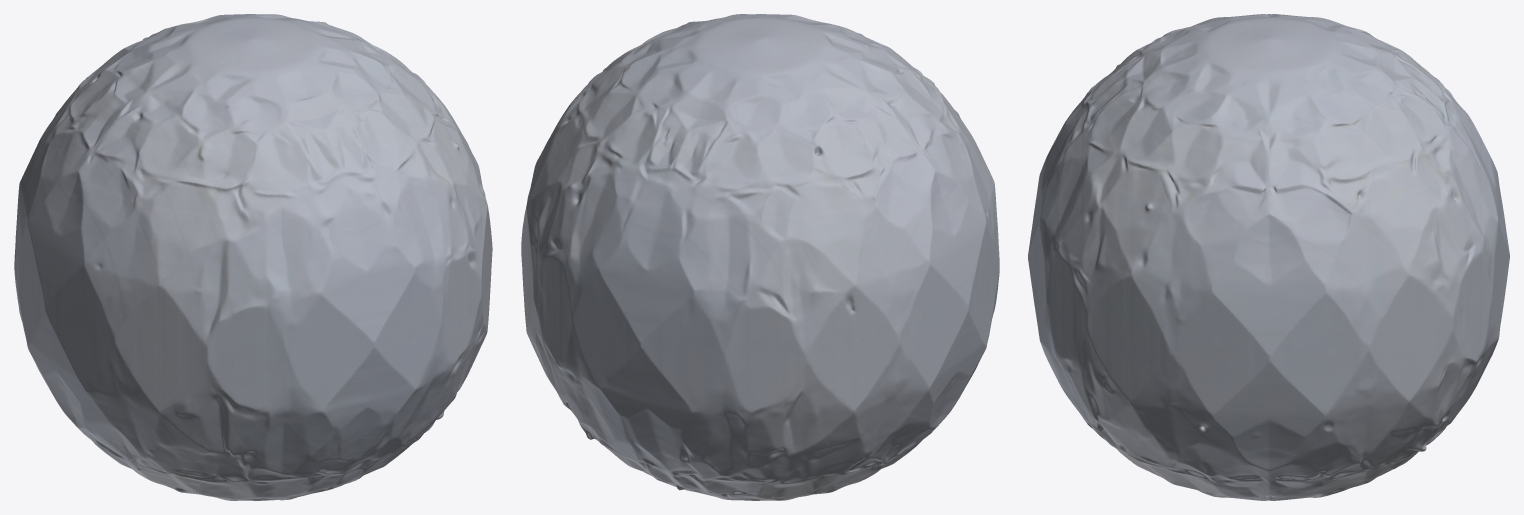
Rendered from detailed_realistic_model_crystalball_06.glb.
3 renders of one model, left to right at view 1: azimuth 30°, elevation 25°; view 2: azimuth 150°, elevation 25°; view 3: azimuth 270°, elevation 25°, orthographic.
Visible parts, largest first — view 1: tripo_node_98b150ce-81c5-49c6-b32d-d471ca460610; view 2: tripo_node_98b150ce-81c5-49c6-b32d-d471ca460610; view 3: tripo_node_98b150ce-81c5-49c6-b32d-d471ca460610.
Boxes of the visible parts, box(x1,y1,x2,y2) form: tripo_node_98b150ce-81c5-49c6-b32d-d471ca460610: box(14, 14, 492, 500); tripo_node_98b150ce-81c5-49c6-b32d-d471ca460610: box(521, 14, 999, 500); tripo_node_98b150ce-81c5-49c6-b32d-d471ca460610: box(1028, 14, 1509, 500).
Bounding box in the file's own units: 0.9973 × 1 × 0.9997.
1 material, 1 textured.
